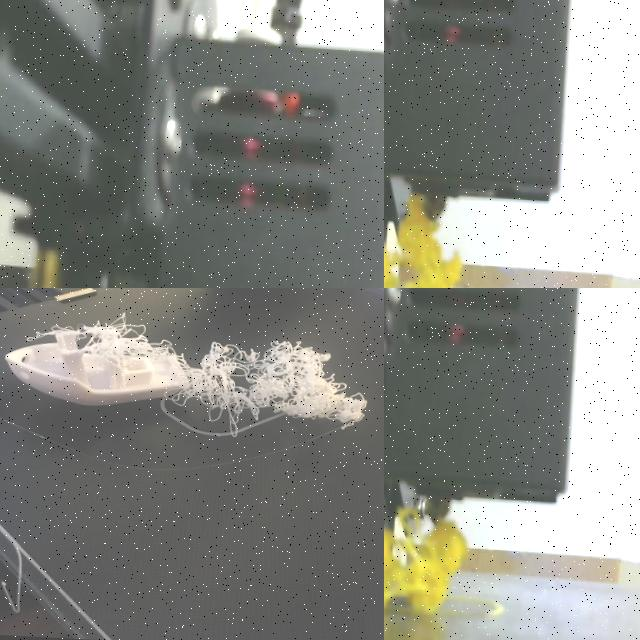spaghetti: (0, 288, 208, 452), (171, 302, 384, 462), (384, 500, 480, 622), (384, 186, 475, 288)
